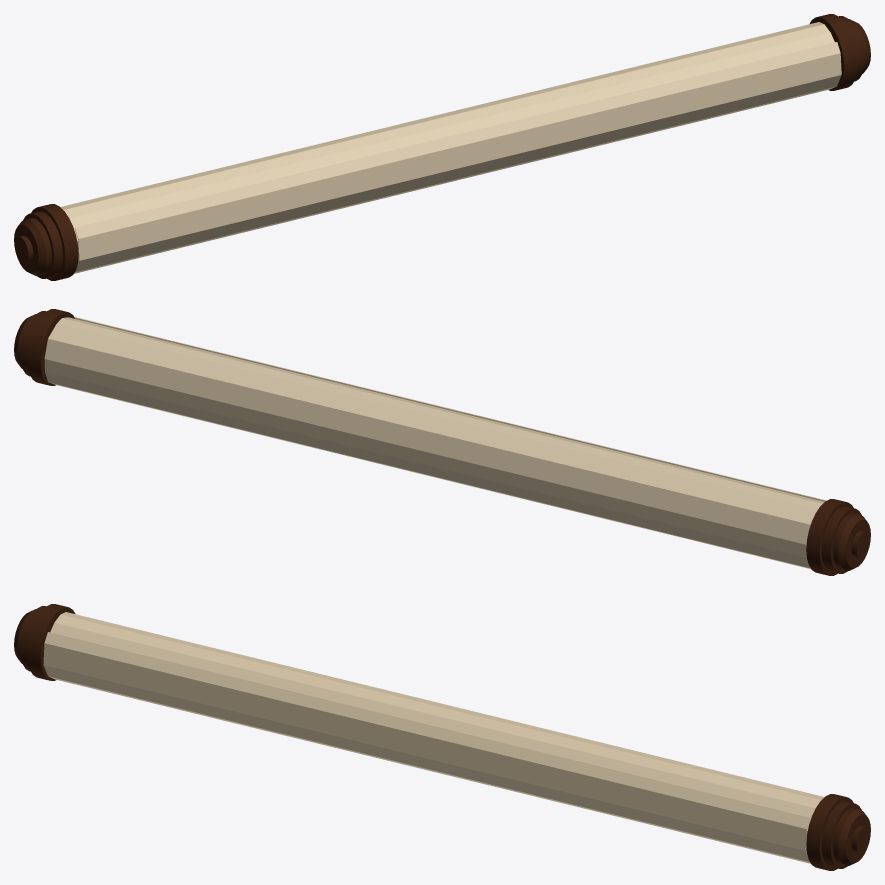
Rendered from WholeScroll.glb.
3 renders of one model, top to bottom at view 1: azimuth 30°, elevation 25°; view 2: azimuth 150°, elevation 25°; view 3: azimuth 330°, elevation 25°, orthographic.
Visible parts, largest first — view 1: Paper, Spindle; view 2: Paper, Spindle; view 3: Paper, Spindle.
Part boxes in pixels (bbox=[...]): Paper: bbox=[60, 22, 841, 273]; Spindle: bbox=[14, 14, 870, 280]; Paper: bbox=[44, 317, 826, 568]; Spindle: bbox=[14, 309, 870, 575]; Paper: bbox=[43, 612, 824, 863]; Spindle: bbox=[14, 604, 870, 870].
Size of the model in its own units: 2.08 by 0.1628 by 0.1628.
